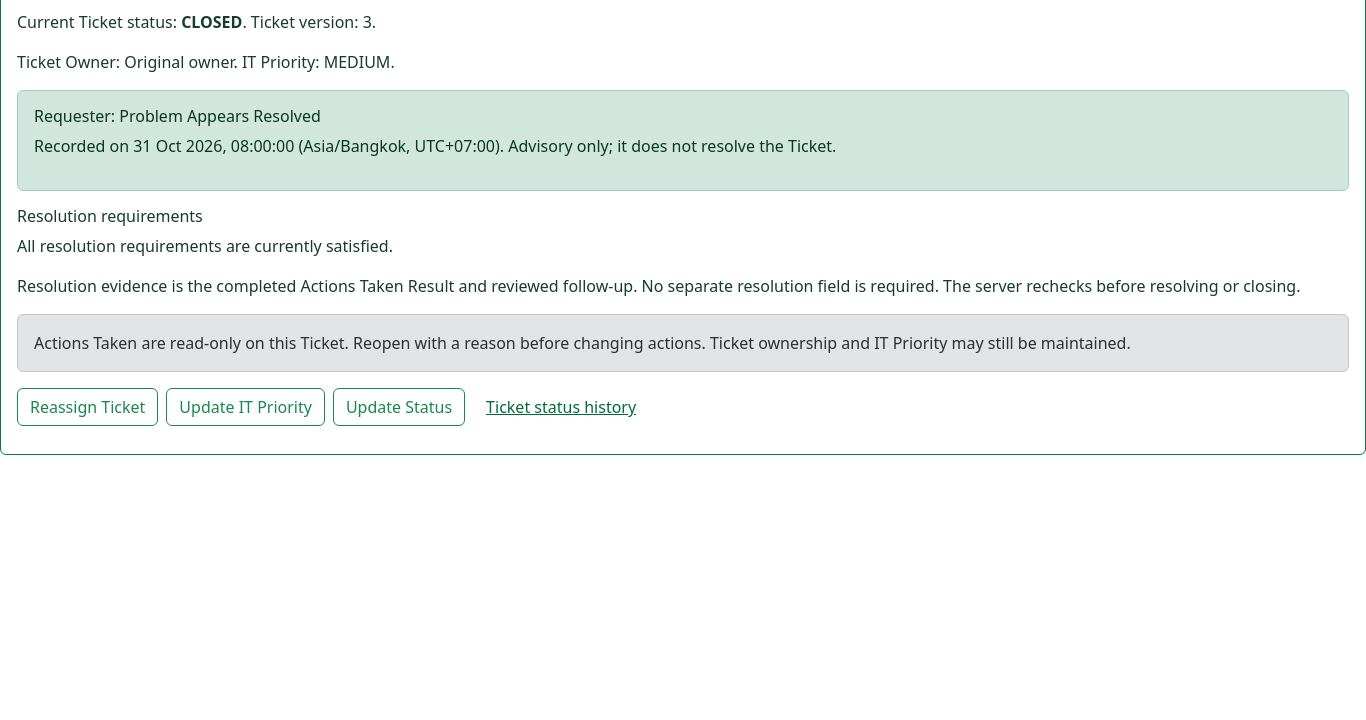
Ticket Workflow component (UI-03, I4 AC-01–06) › requires reopening reason and labels old requester indication as historical
The image size is (1366, 720).
Click the button "Update Status". click: (399, 407)
box: top-left (333, 388), bottom-right (465, 426)
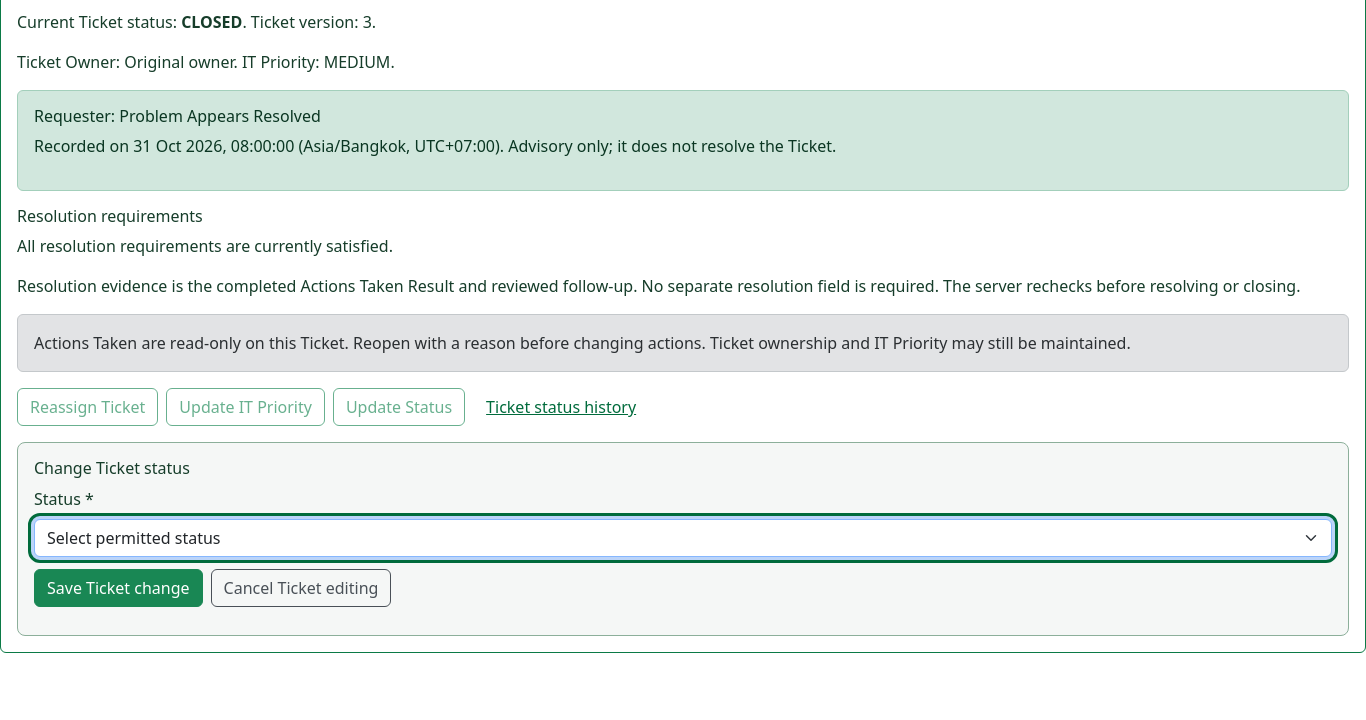
Select "REOPENED" in the dropdown labelled "Status *". click: (683, 538)
box: top-left (34, 519), bottom-right (1332, 557)
(page scrolled)
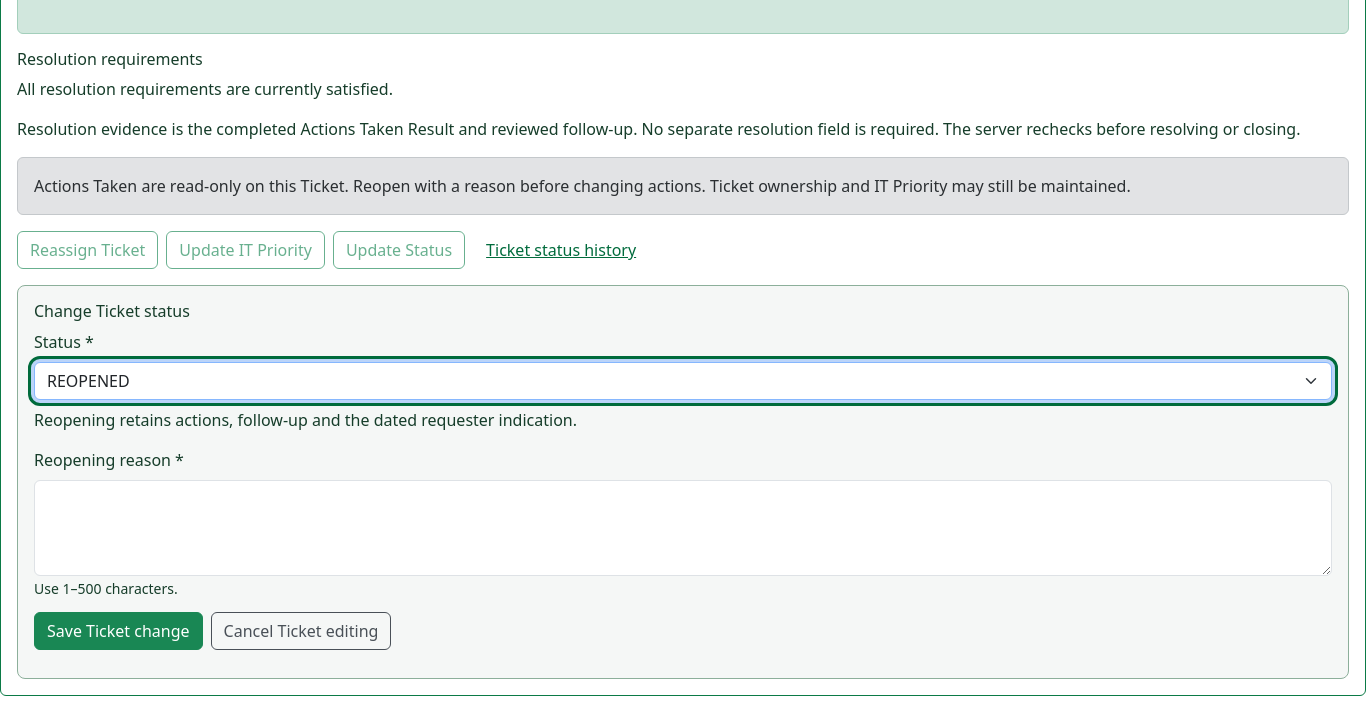
Click the button "Save Ticket change". click: (118, 631)
box: top-left (34, 612), bottom-right (203, 650)
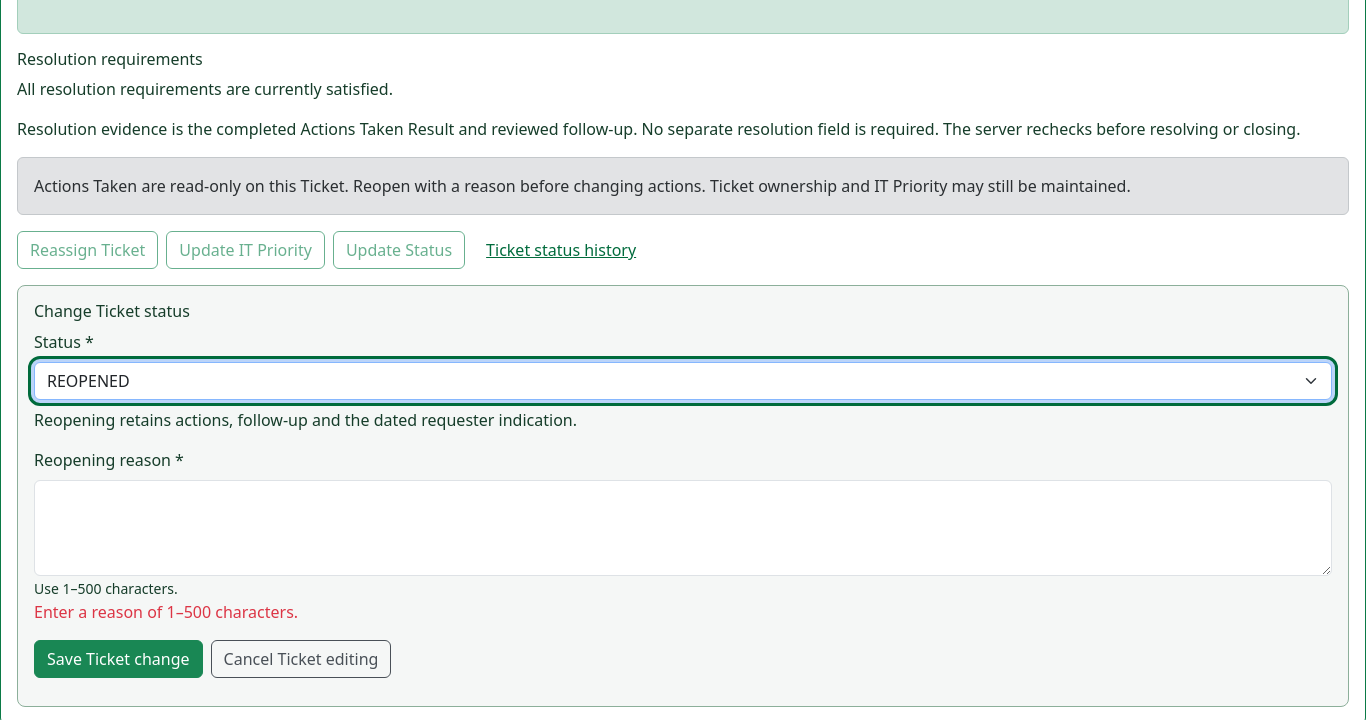
Type "Returned connection failure" into the text box labelled "Reopening reason *". click: (683, 528)
box: top-left (34, 480), bottom-right (1332, 576)
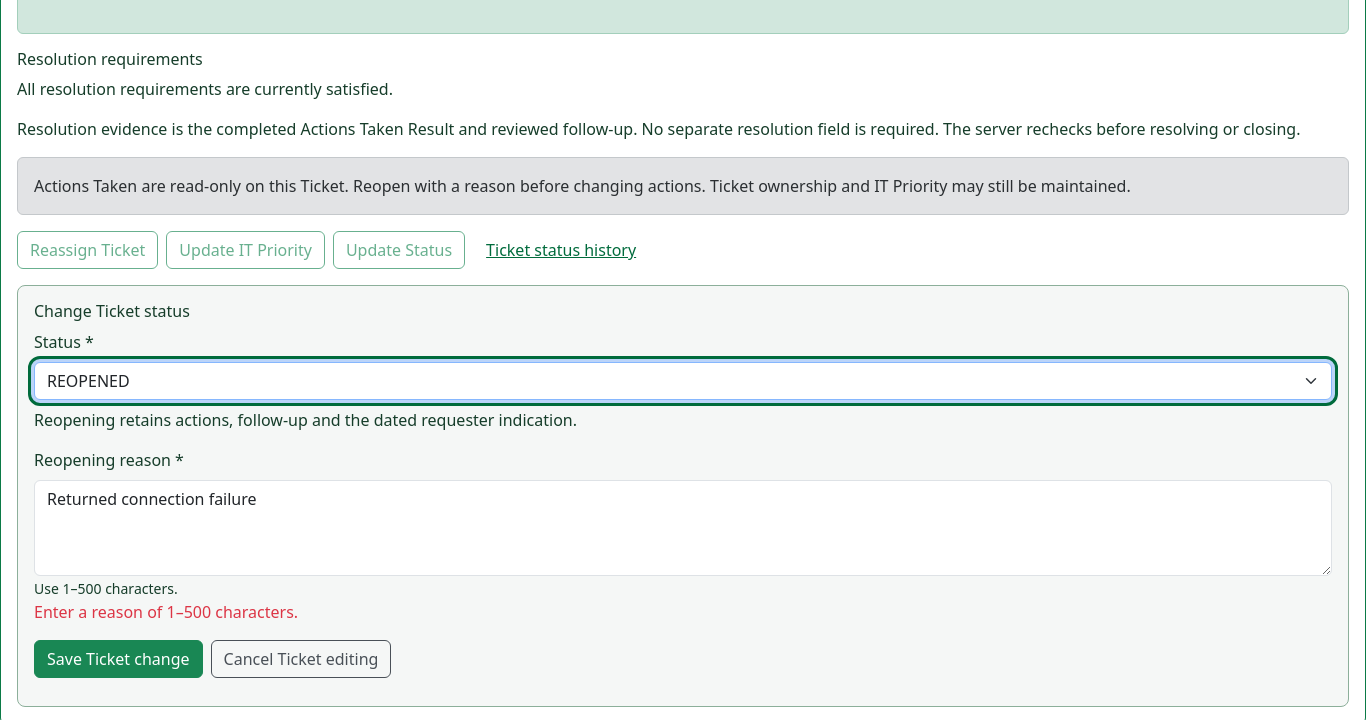
Click the button "Save Ticket change". click: (118, 659)
box: top-left (34, 640), bottom-right (203, 678)
(page scrolled)
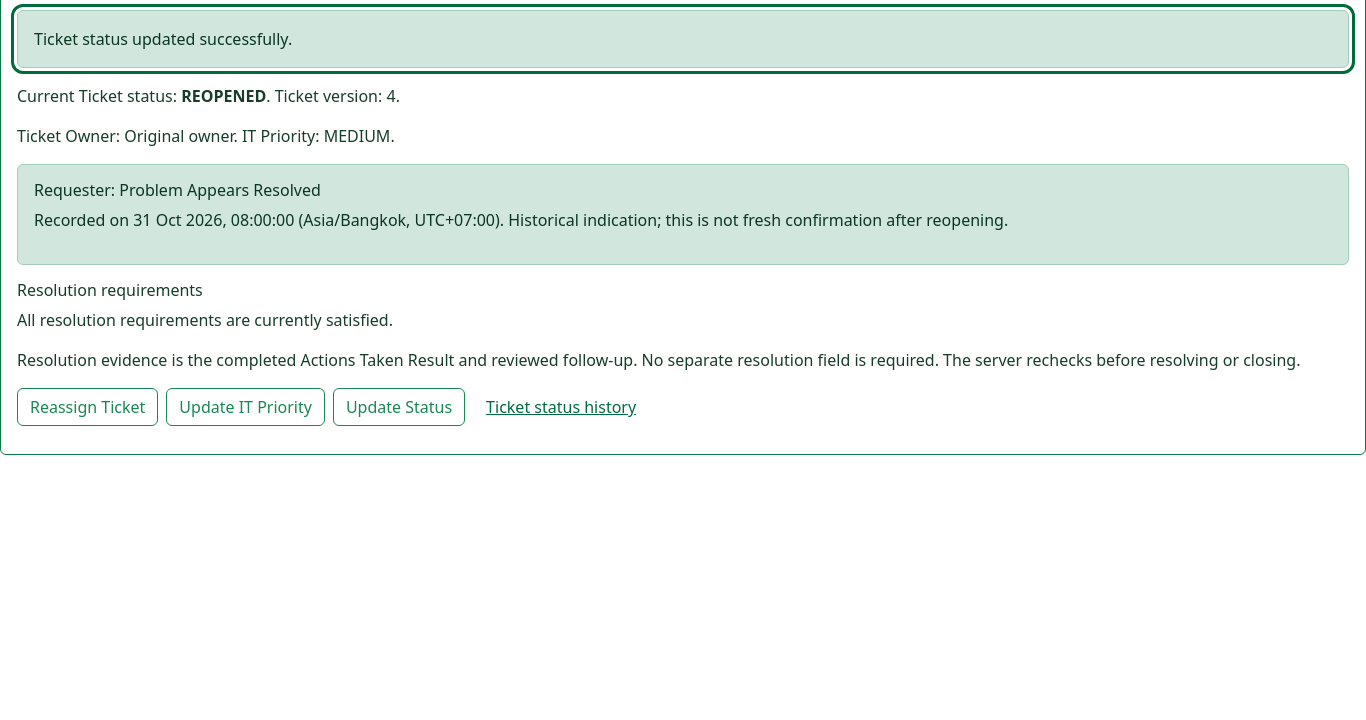
Result: the text "Historical indication; this is not fresh confirmation" is shown at top-left (504, 209), bottom-right (1008, 231)
